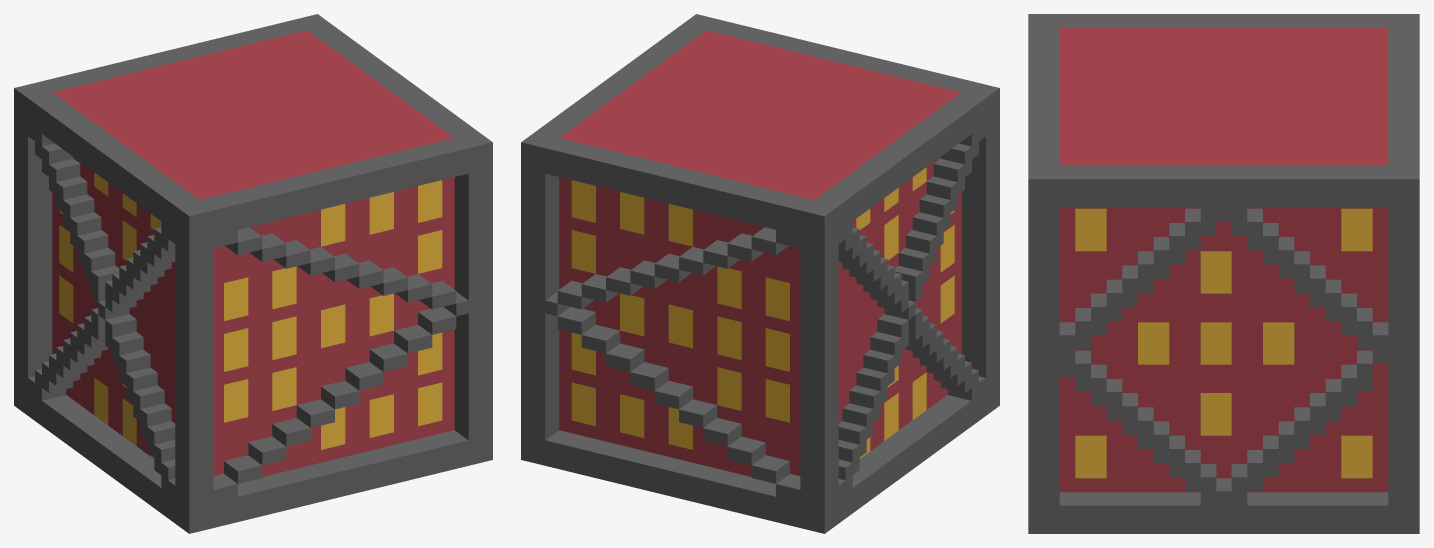
Rendered from patternbuilding.fbx.
The picture shows the model from 3 angles, left to right: view 1: azimuth 30°, elevation 25°; view 2: azimuth 150°, elevation 25°; view 3: azimuth 270°, elevation 25°; orthographic projection. The views are drawn at different scales.
Parts seen in each view (by area): view 1: Box; view 2: Box; view 3: Box.
Boxes of the visible parts, x1,y1,x2,y2 form: Box: [14, 14, 492, 533]; Box: [521, 14, 999, 533]; Box: [1028, 14, 1419, 533].
Size of the model in its own units: 25 by 25 by 25.
Materials: 1 (1 with a texture image).
